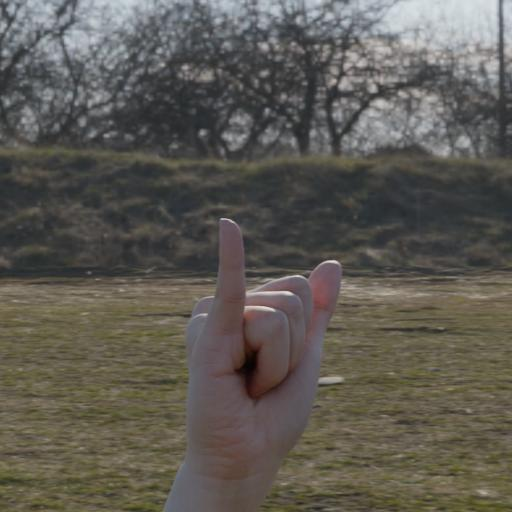Y: (168, 204, 360, 492)
